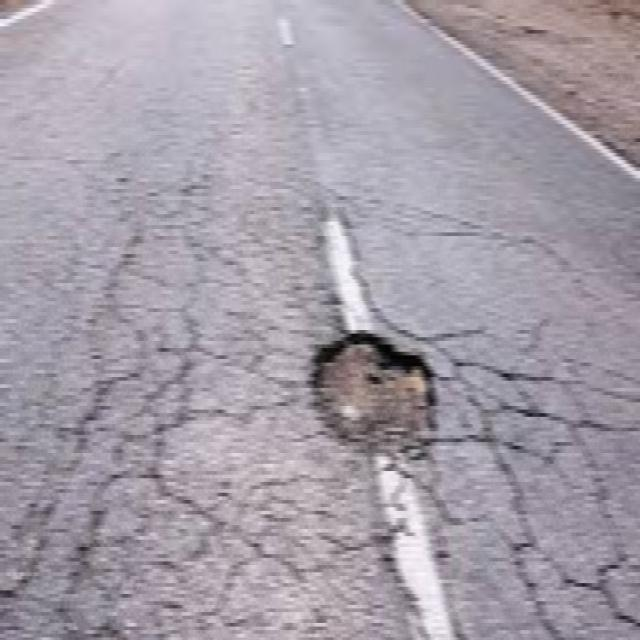Pothole: (302, 325, 455, 469)
